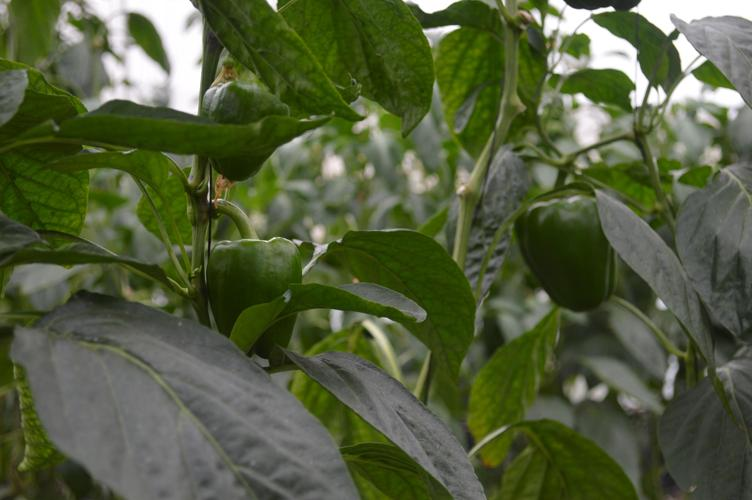BellPepper: (515, 203, 641, 329), (195, 241, 304, 350), (190, 80, 291, 181)
